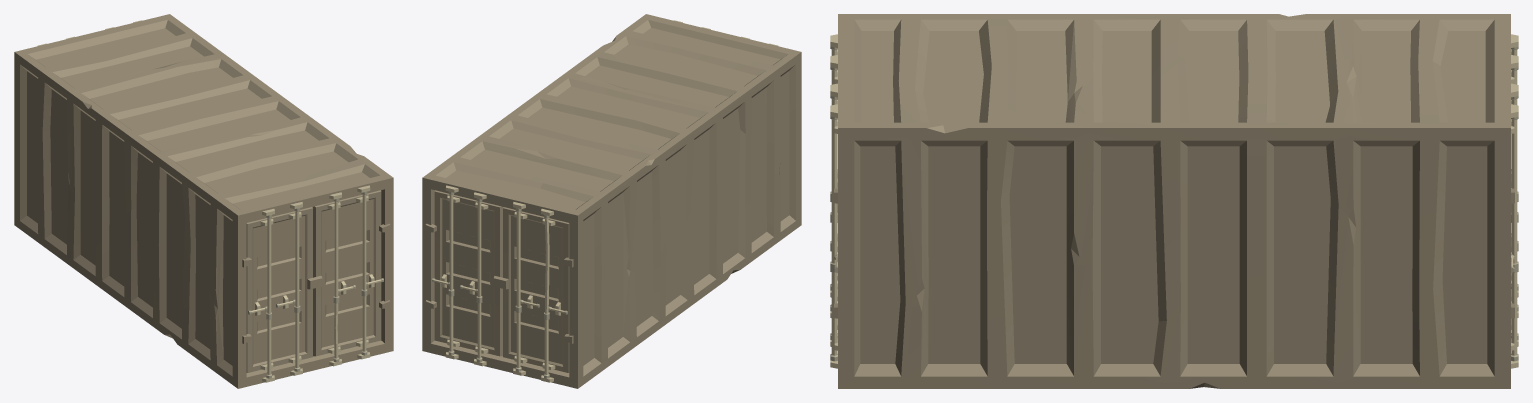
Rendered from polycontainerblue.glb.
3 views of the same model, side by side, from view 1: azimuth 30°, elevation 25°; view 2: azimuth 150°, elevation 25°; view 3: azimuth 270°, elevation 25° (orthographic). The views are drawn at different scales.
Parts seen in each view (by area): view 1: PolyContainerBlue; view 2: PolyContainerBlue; view 3: PolyContainerBlue.
Boxes of the visible parts, <box> form: PolyContainerBlue: <box>14,14,393,388</box>; PolyContainerBlue: <box>422,14,801,388</box>; PolyContainerBlue: <box>830,14,1518,388</box>.
Bounding box in the file's own units: 2.45 × 2.61 × 6.19.
1 material, 1 textured.
